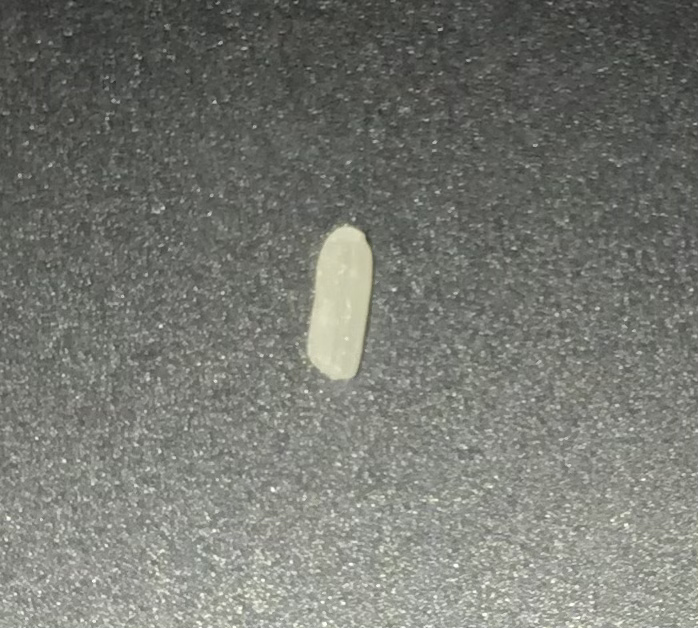Gao Tam Thom: (311, 220, 375, 391)
